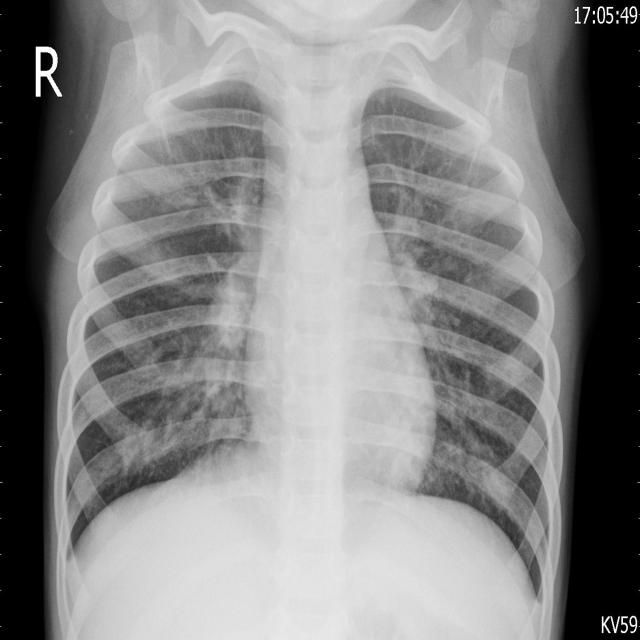low-pneumonia: (156, 160, 264, 427), (384, 204, 455, 401)
